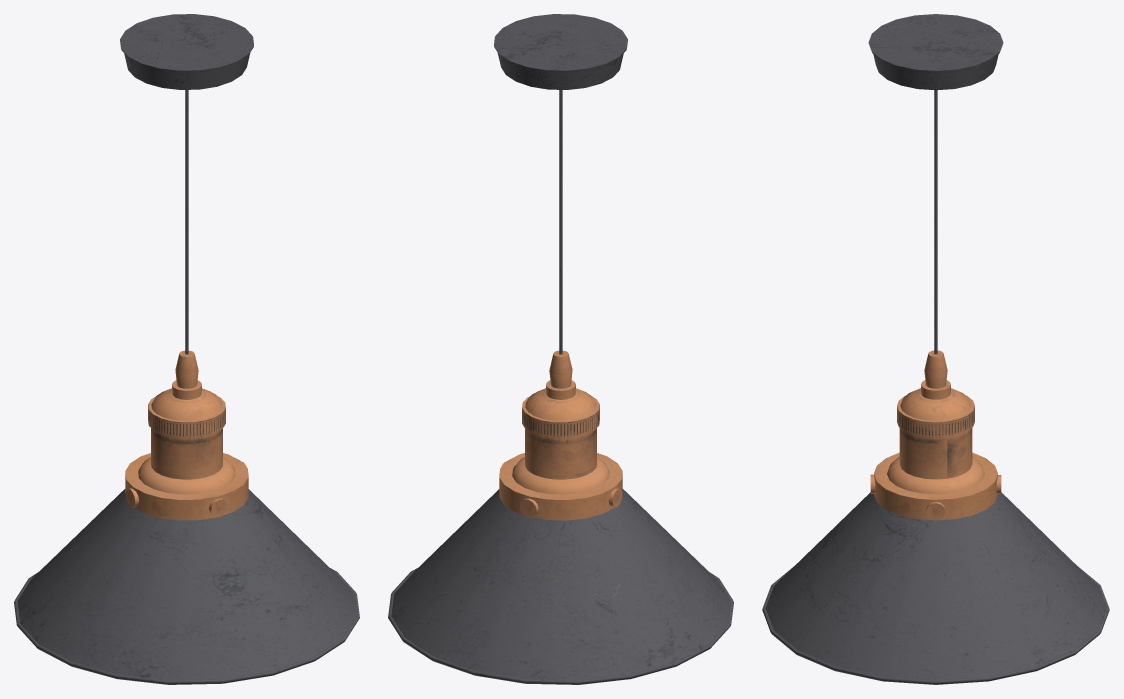
File: lamp_02_lowpoly.glb
3 renders of one model, left to right at view 1: azimuth 30°, elevation 25°; view 2: azimuth 150°, elevation 25°; view 3: azimuth 270°, elevation 25°, orthographic.
Parts seen in each view (by area): view 1: re_lamp_02_0; view 2: re_lamp_02_0; view 3: re_lamp_02_0.
Part boxes in pixels (x1,y1,x2,y2): re_lamp_02_0: (14, 14, 359, 684); re_lamp_02_0: (388, 14, 733, 684); re_lamp_02_0: (762, 14, 1109, 684).
Size of the model in its own units: 0.6662 by 1.25 by 0.6662.
1 material, 1 textured.
